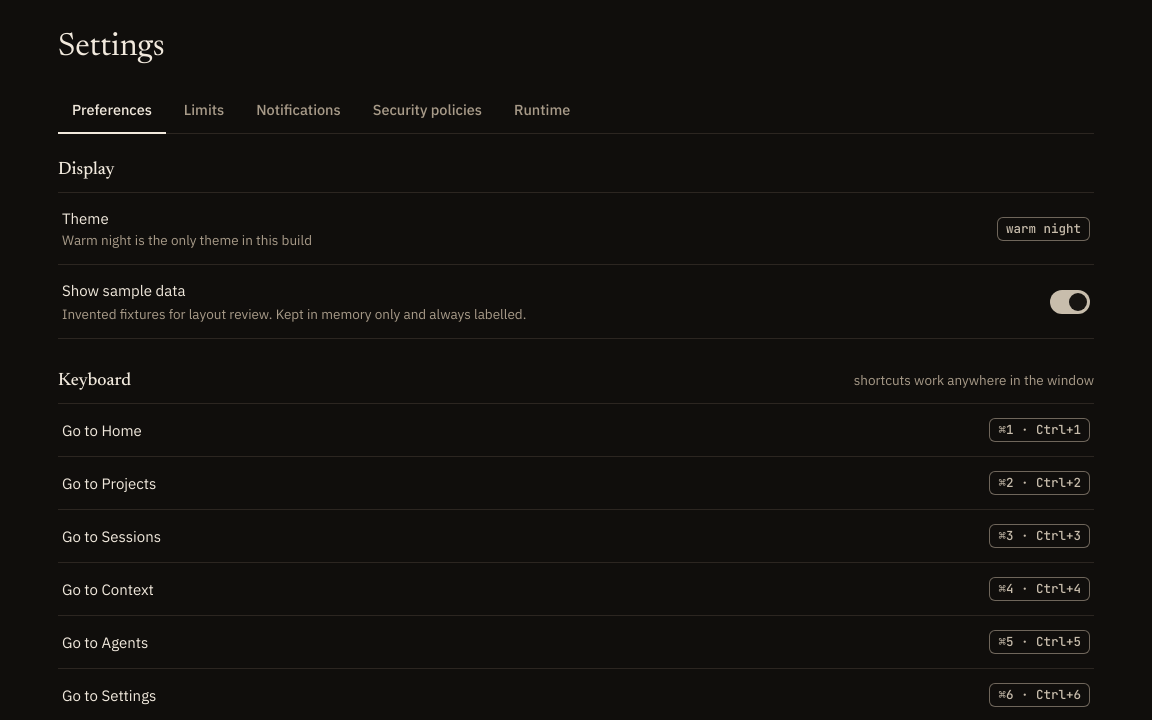
it: runtime status in Settings › shows the validated identity with labelled fields
Step 1. Click the tab "Runtime" → (542, 112), box top-left (500, 90), bottom-right (584, 134)
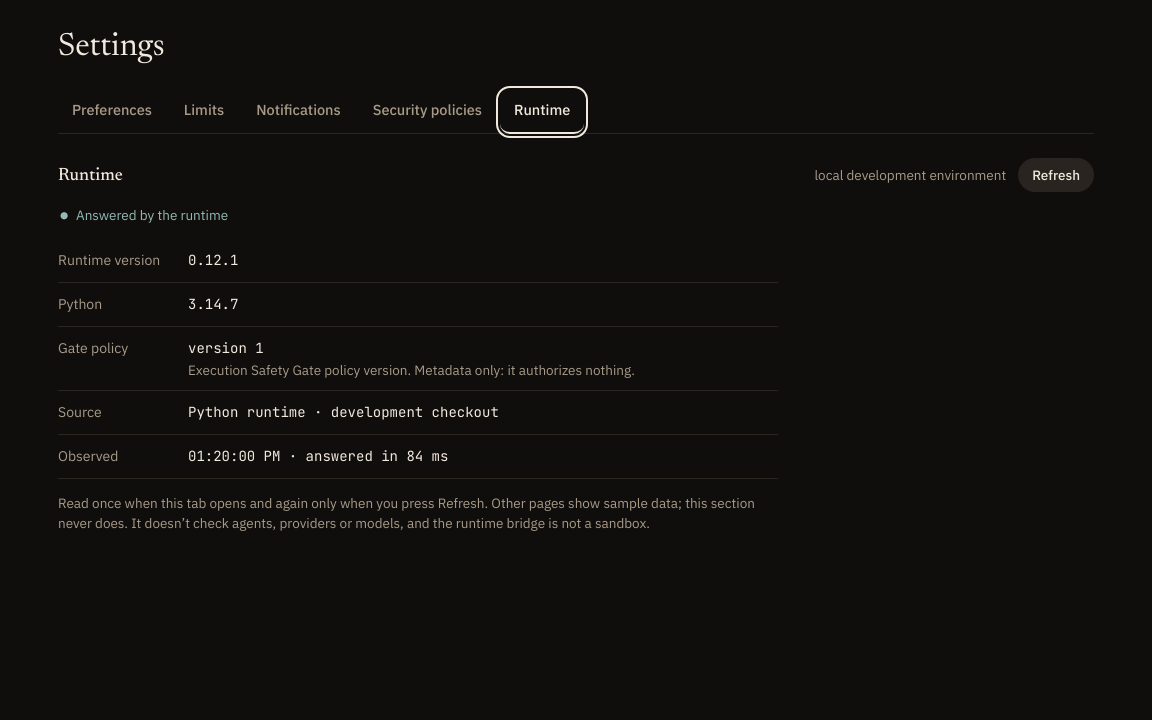
Expected: the message reads "Answered by the runtime", top-left (76, 206), bottom-right (228, 224)
Expected: the text "Python runtime · development checkout" is shown, top-left (188, 391), bottom-right (778, 435)
